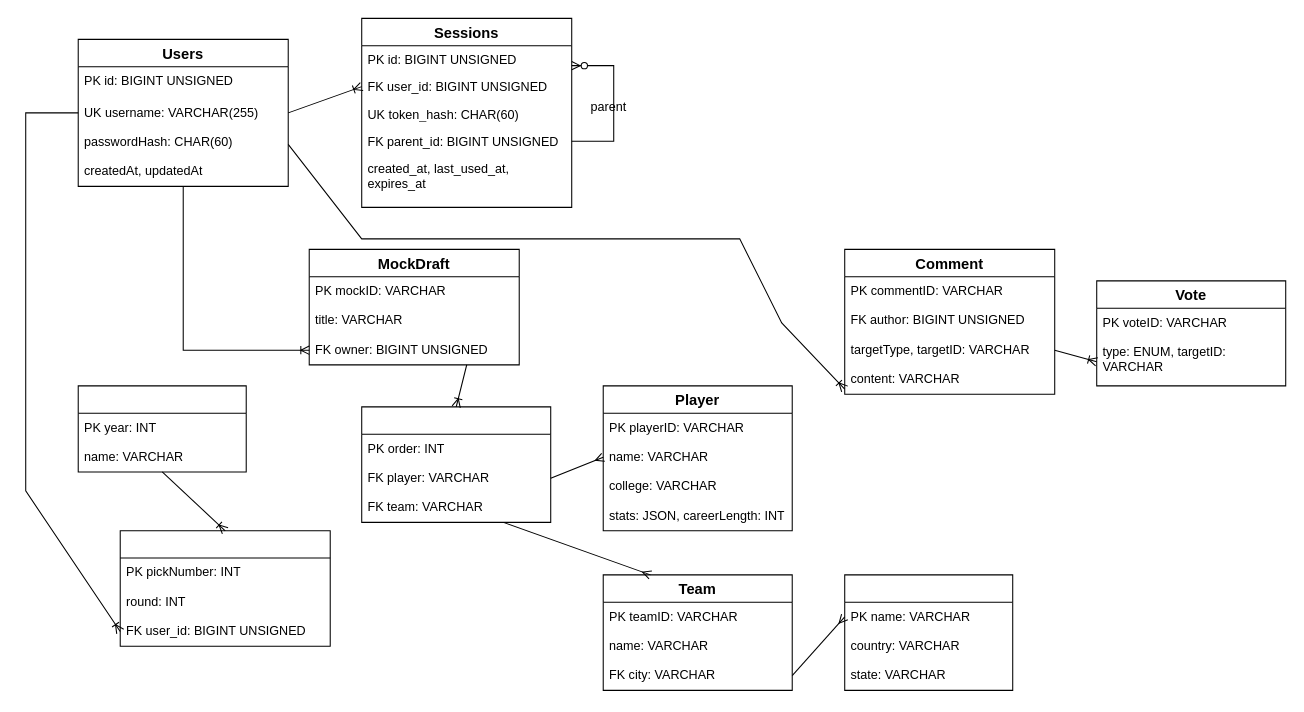
Image size: 1304x712. Some labels were removed from this diagram. Each missing label, with the box of its shape:
City: (844, 574, 1013, 690)
DraftClass: (77, 385, 246, 472)
DraftPick: (119, 530, 330, 646)
MockSelection: (361, 406, 551, 522)
